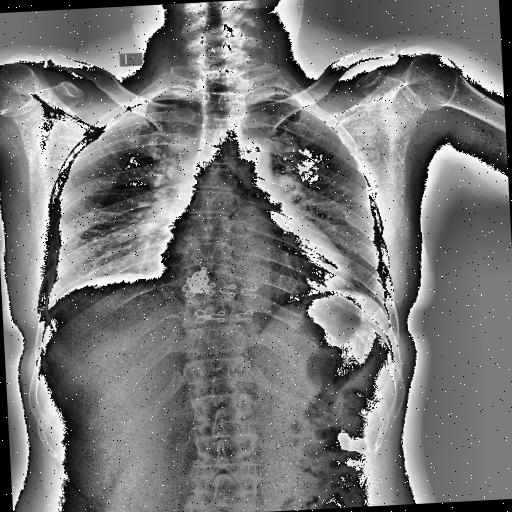3- Cardiomegaly: (154, 218, 352, 304), (156, 230, 354, 306), (156, 234, 353, 306)
